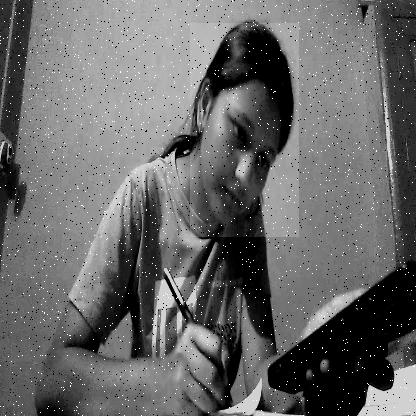Distracted: (190, 23, 299, 237)
